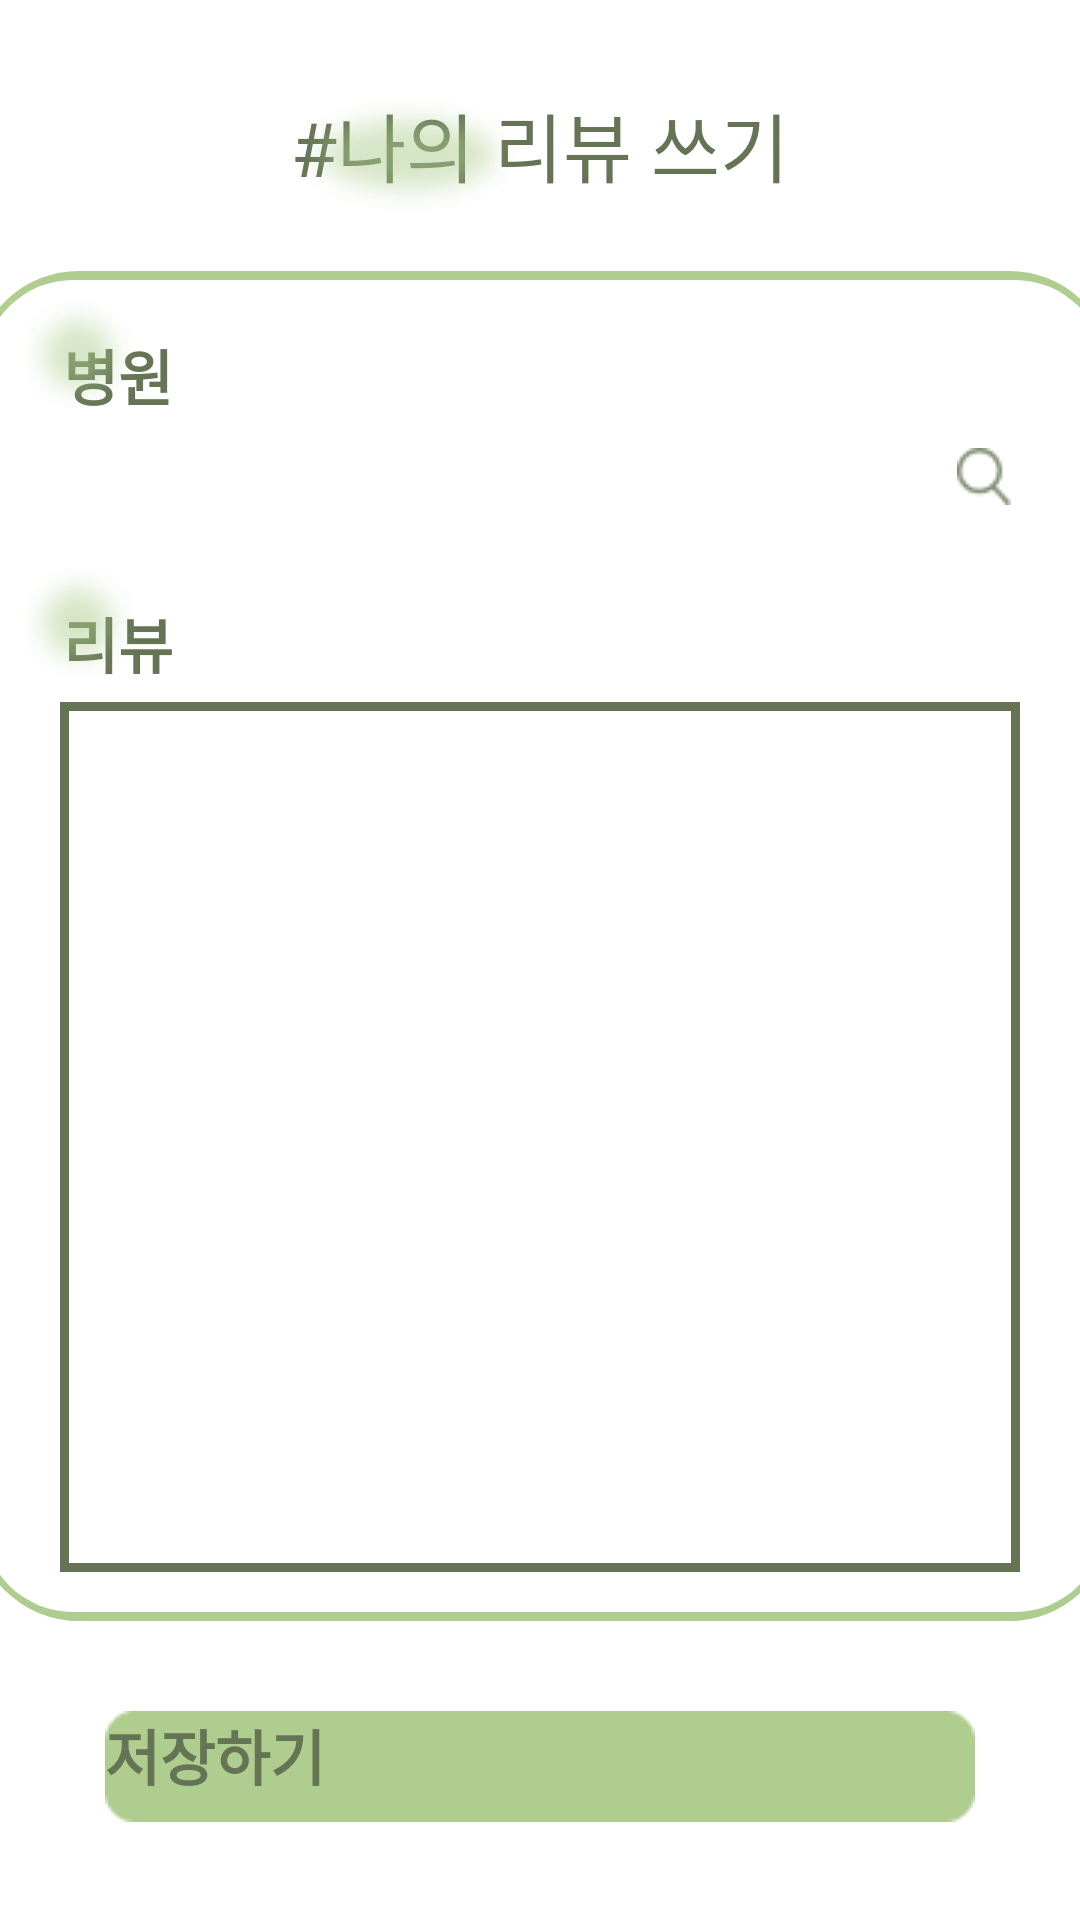

Where icons sit on this 1080px×1920px app screen, as (x1, y1, x2, y2):
myreview search: (957, 448, 1011, 505)
